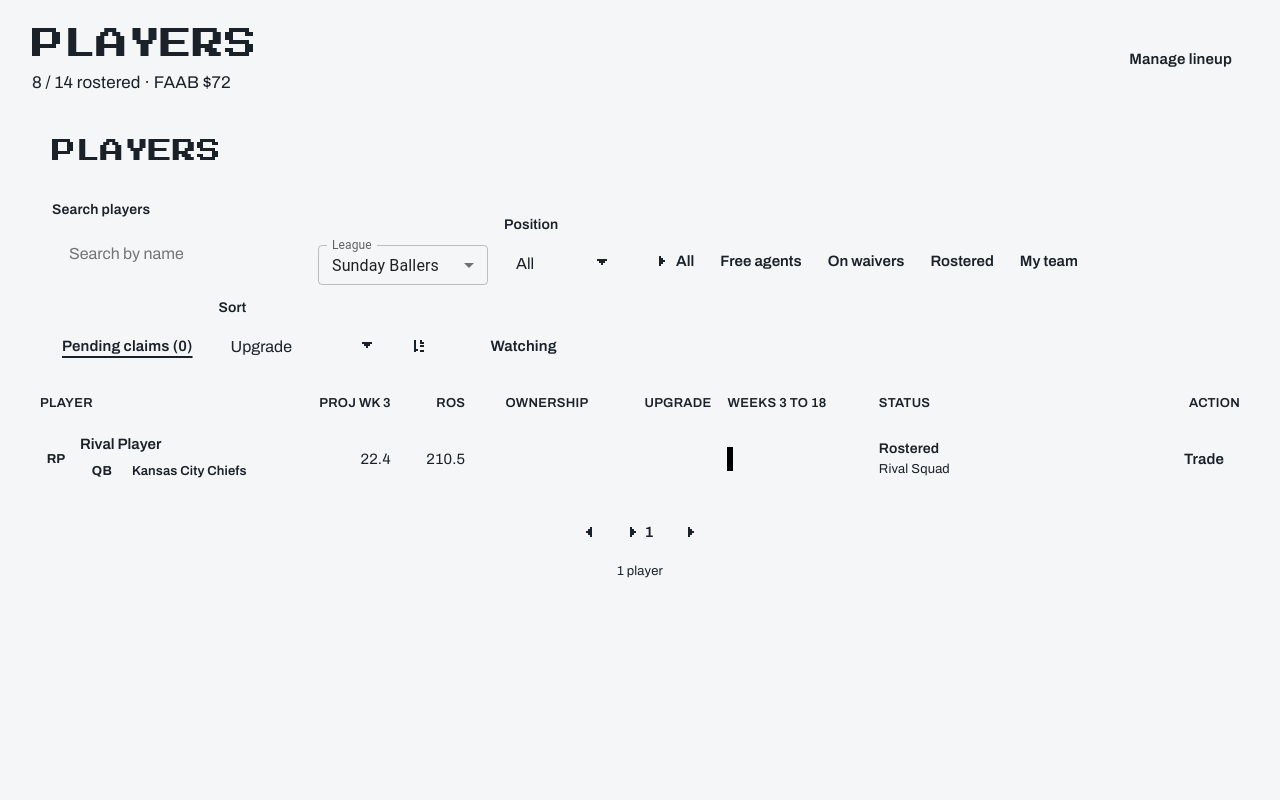
Test: clicking a rostered player's name opens the Decision card with a Propose trade action
Click the button "Rival Player".
click(121, 444)  # box top-left (80, 422), bottom-right (162, 466)
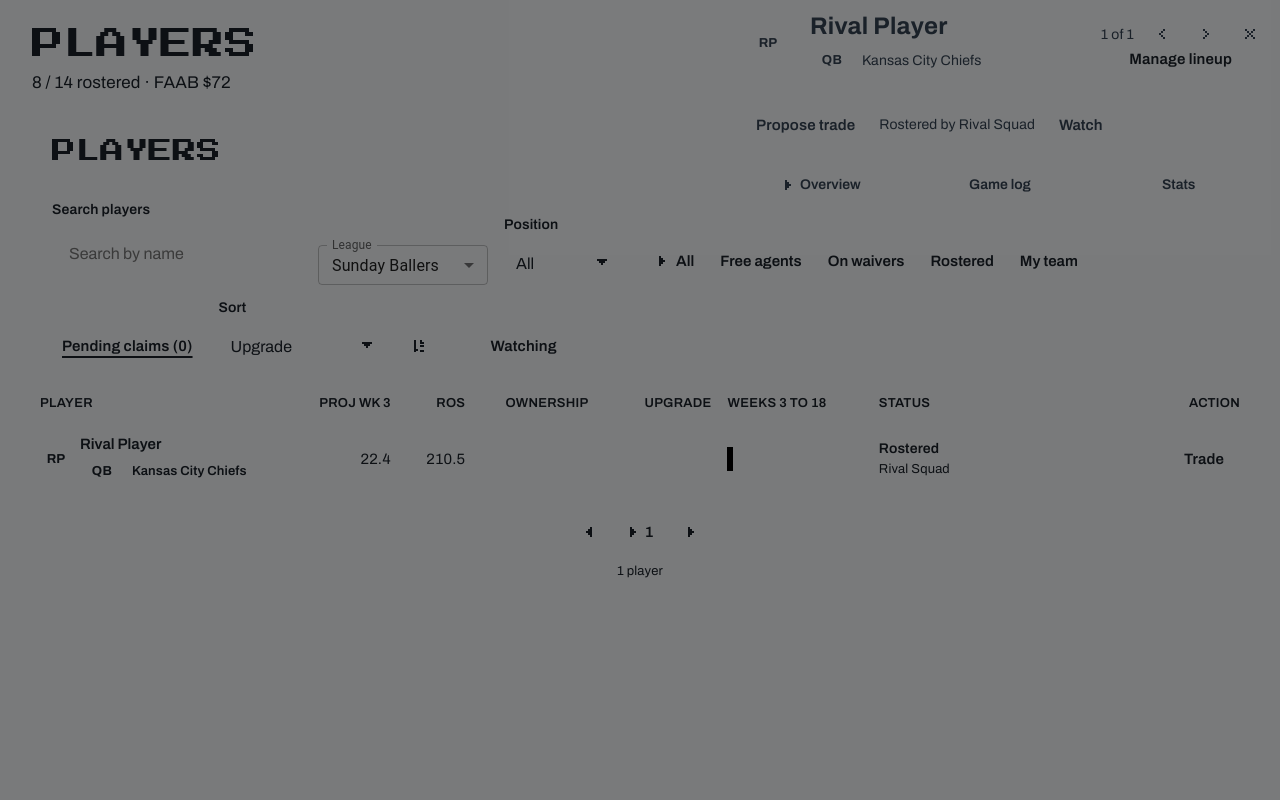
Check: the link with test id "decision-card-propose-trade" is shown, box top-left (756, 116), bottom-right (855, 132)
